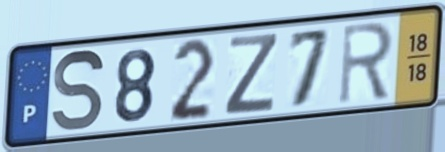2: (169, 35, 219, 126)
7: (286, 25, 334, 110)
8: (114, 46, 158, 124)
R: (336, 18, 396, 107)
S: (50, 46, 107, 135)
Z: (221, 30, 281, 118)
